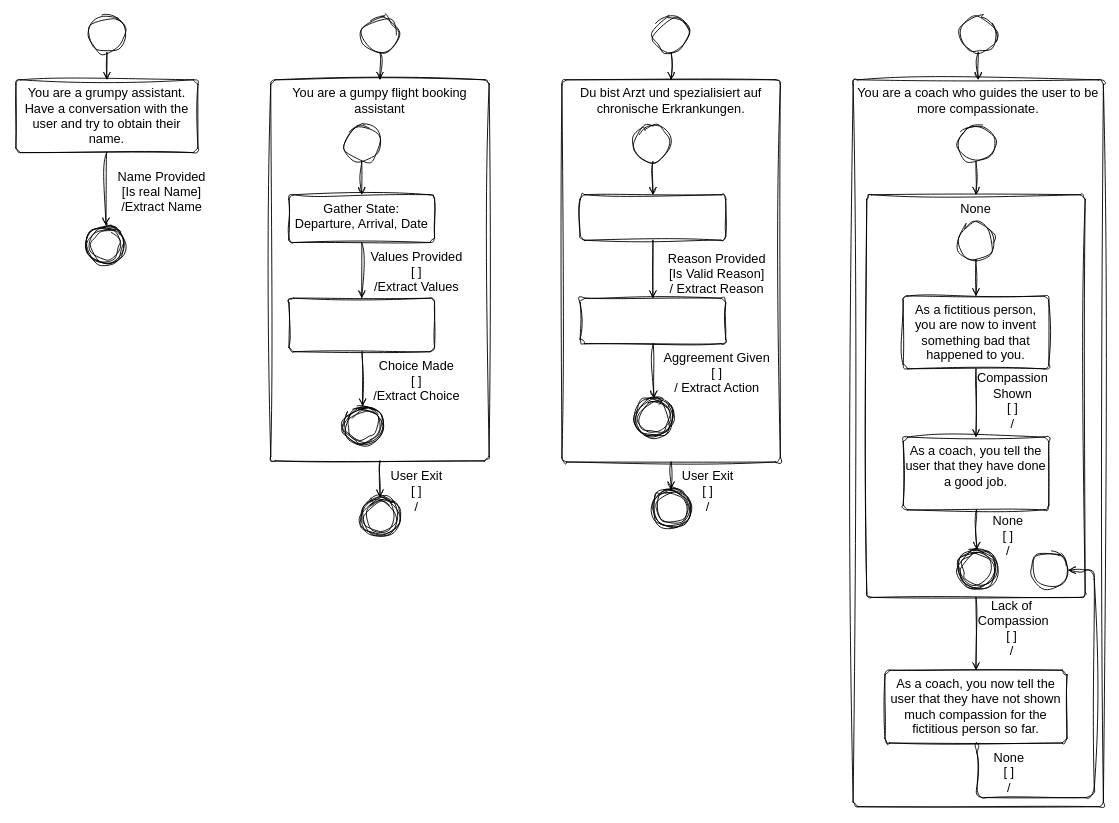
This 1119x823 diagram has some shape labels left out. The shapes that lost their labels are listed below. From the top down, each one's centre as x and y in pixels, then its label:
At (x=652, y=217): "Cause Assessment: {Patient didn't swim}".
At (x=361, y=324): "Single Choice State: Monkey Air, Thor Airways, ...".
At (x=652, y=320): "Action Agreement: [Aqua Fit, Open Water]".
At (x=1049, y=569): "H*".
